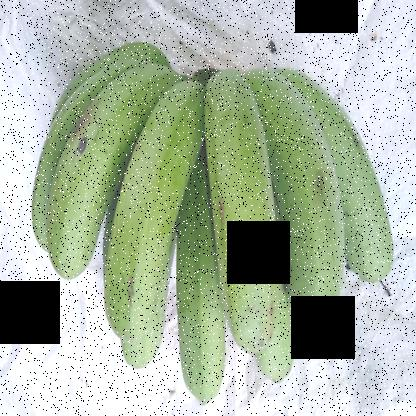unripe: (96, 53, 211, 357), (193, 47, 295, 354), (49, 25, 160, 288), (250, 47, 349, 339)
